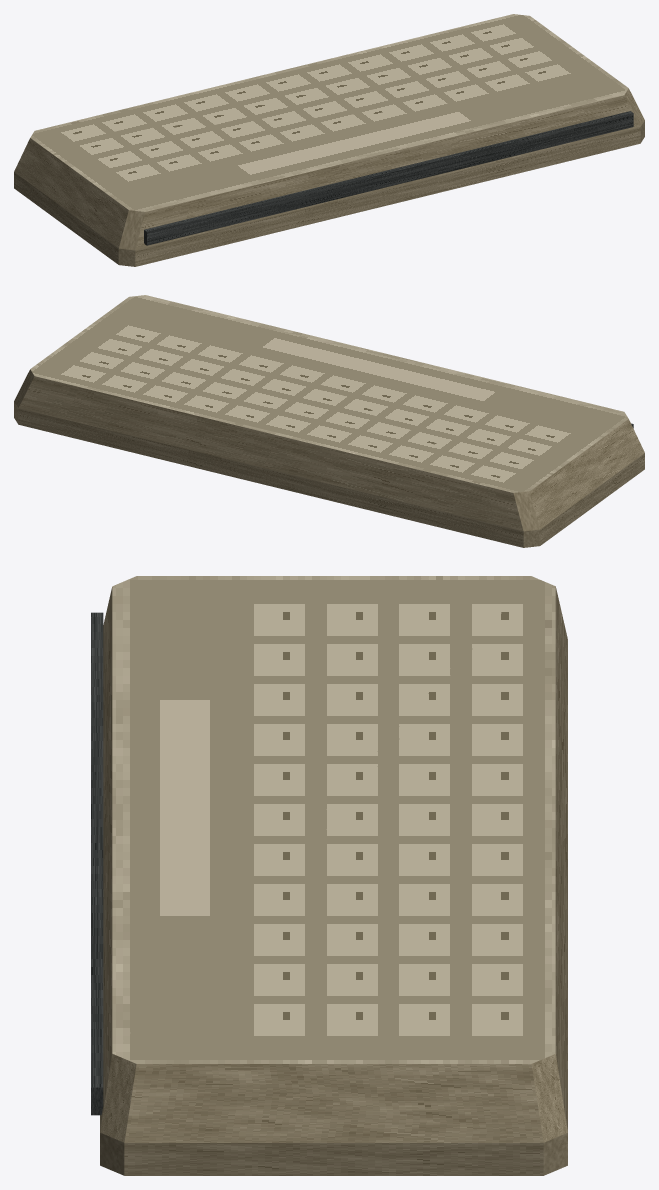
File: keyboard.glb
The picture shows the model from 3 angles, top to bottom: view 1: azimuth 30°, elevation 25°; view 2: azimuth 150°, elevation 25°; view 3: azimuth 270°, elevation 25°; orthographic projection. The views are drawn at different scales.
Parts seen in each view (by area): view 1: Body; view 2: Body; view 3: Body.
Boxes of the visible parts, x1,y1,x2,y2 form: Body: (14, 14, 644, 266); Body: (14, 295, 644, 547); Body: (91, 576, 567, 1175).
Bounding box in the file's own units: 0.4 × 0.036 × 0.157.
Materials: 1 (1 with a texture image).
